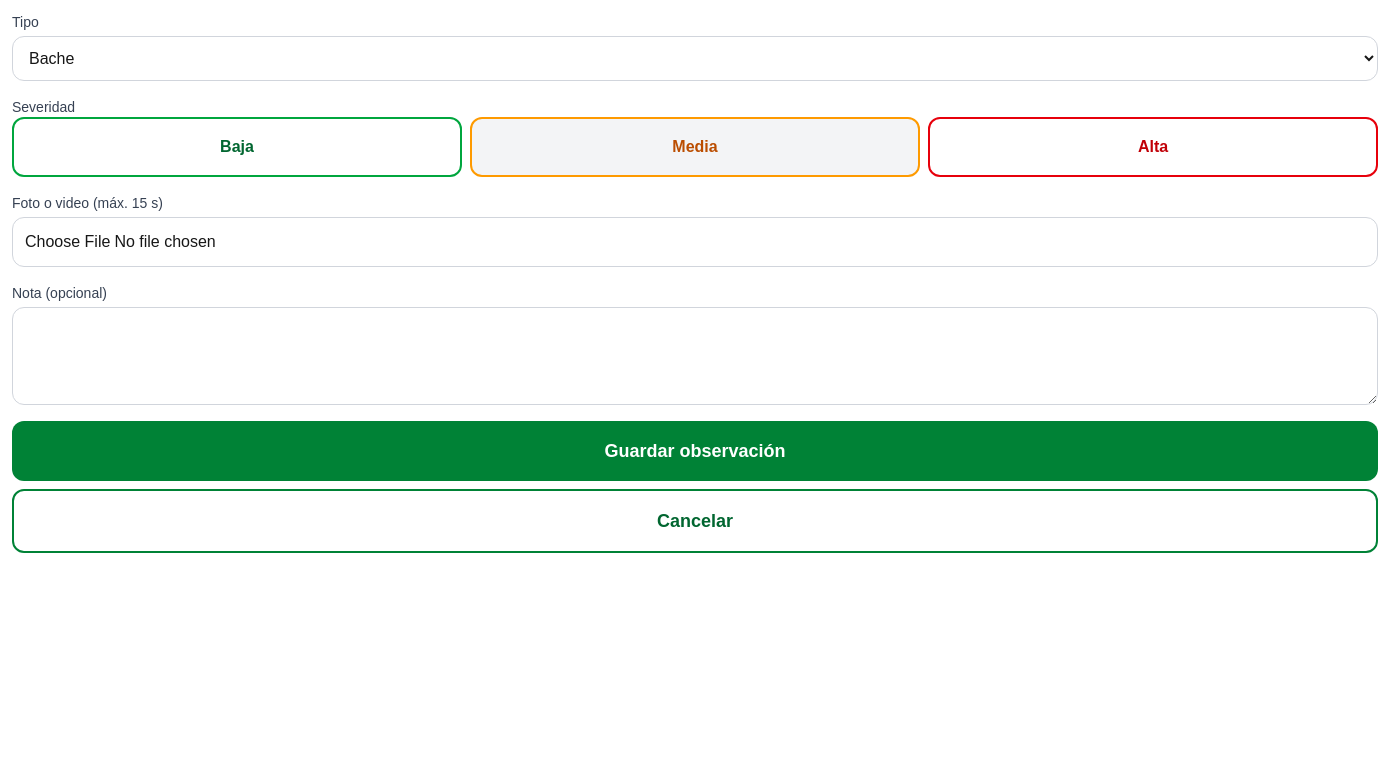
ObservacionForm › sin posición no guarda y avisa
The width and height of the screenshot is (1390, 780).
Click the button "Guardar observación".
click(695, 451)  # box [12,421,1378,481]
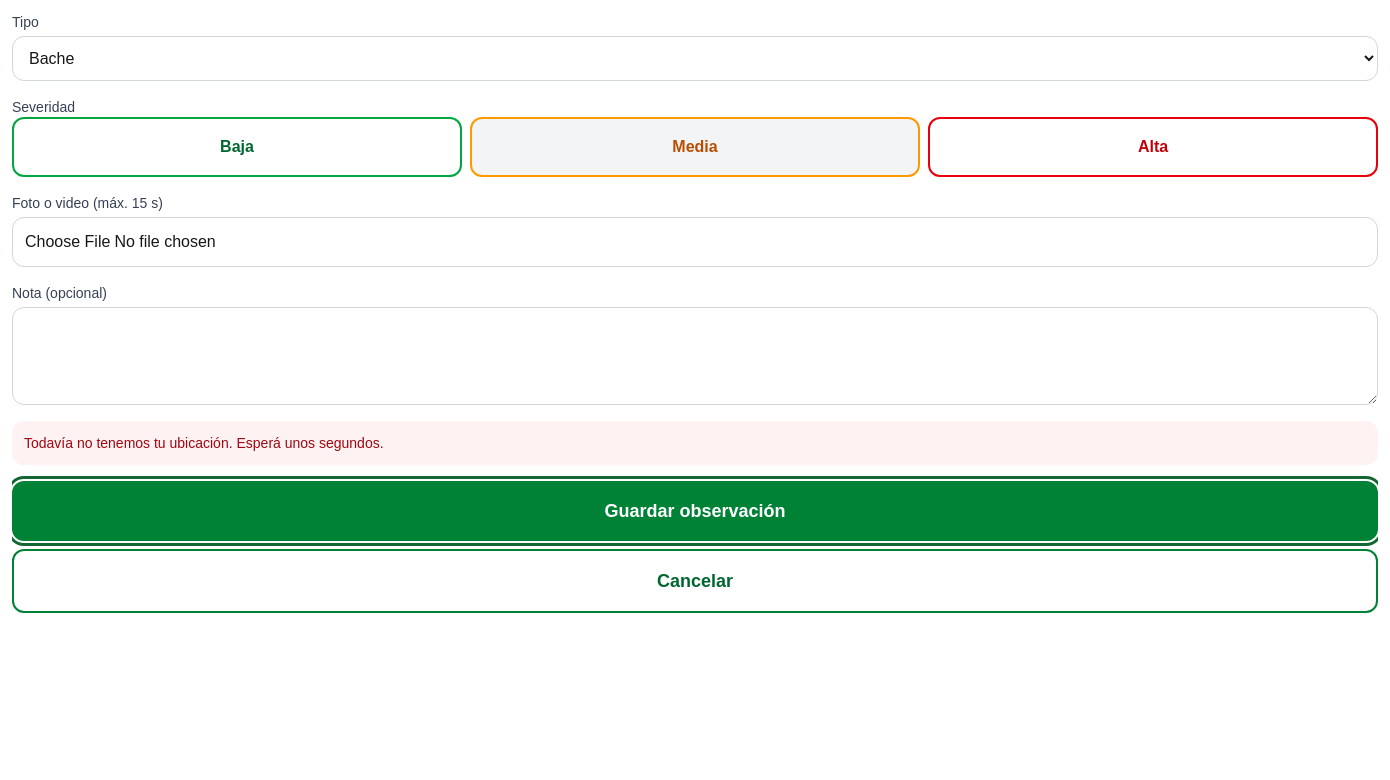
Result: the message shows "Todavía no tenemos tu ubicación" at [24,435,384,451]
